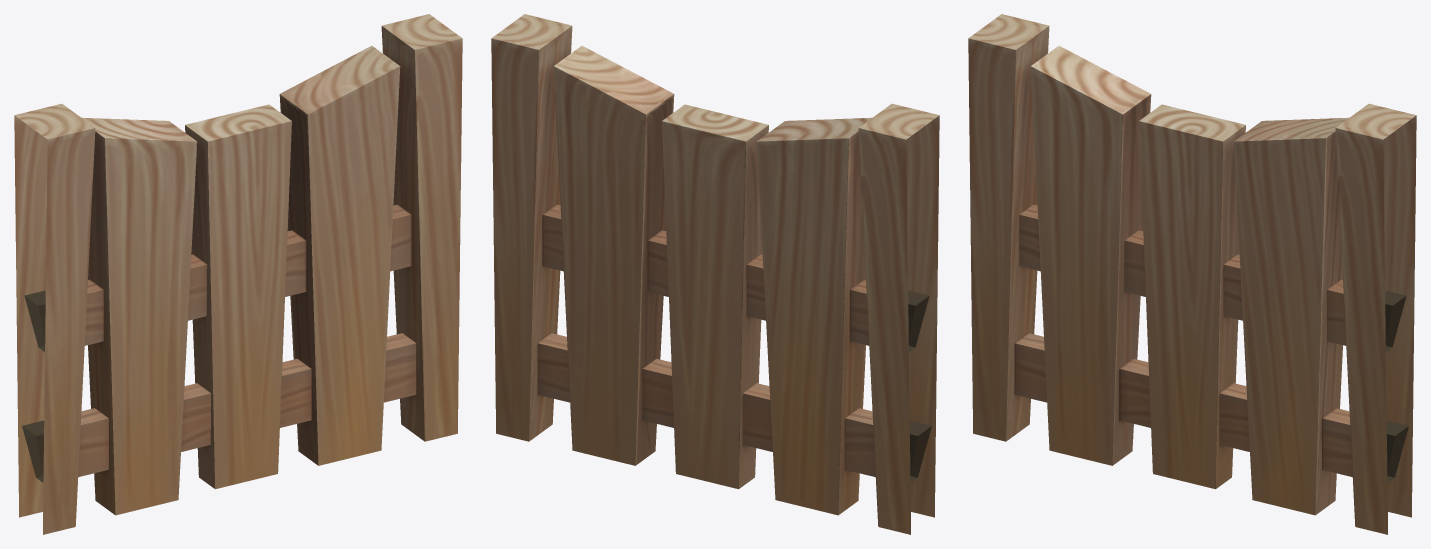
File: fence2_middle.FBX
3 renders of one model, left to right at view 1: azimuth 30°, elevation 25°; view 2: azimuth 150°, elevation 25°; view 3: azimuth 330°, elevation 25°, orthographic.
Parts seen in each view (by area): view 1: fence2_middle; view 2: fence2_middle; view 3: fence2_middle.
Boxes of the visible parts, bbox=[...] form: fence2_middle: bbox=[14, 14, 462, 534]; fence2_middle: bbox=[491, 14, 939, 534]; fence2_middle: bbox=[968, 14, 1416, 534].
Bounding box in the file's own units: 50.49 × 45.92 × 6.96.
1 material, 1 textured.
